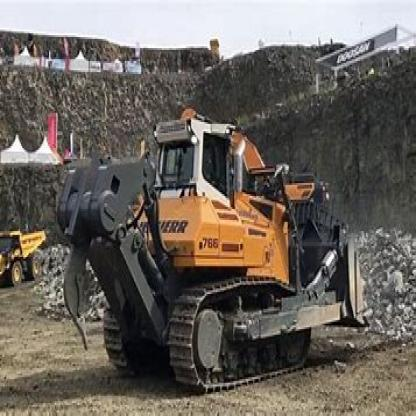bull_dozer/loader/grader: (49, 84, 382, 386)
